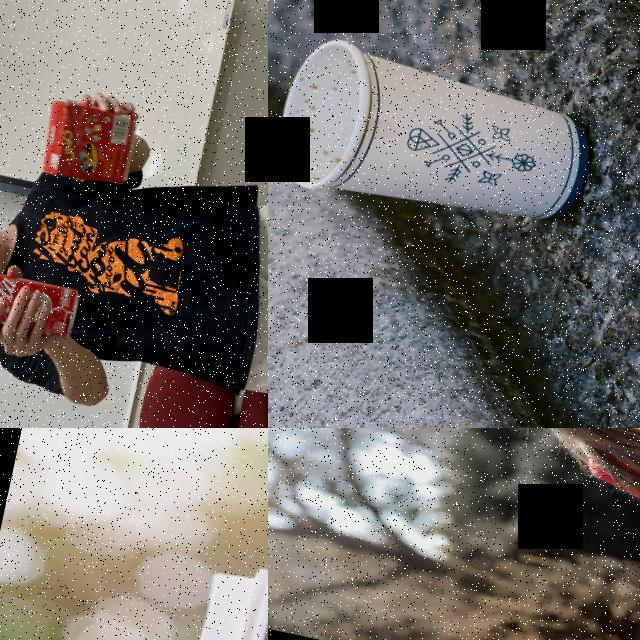can: (0, 267, 83, 345)
cup: (268, 27, 606, 244)
